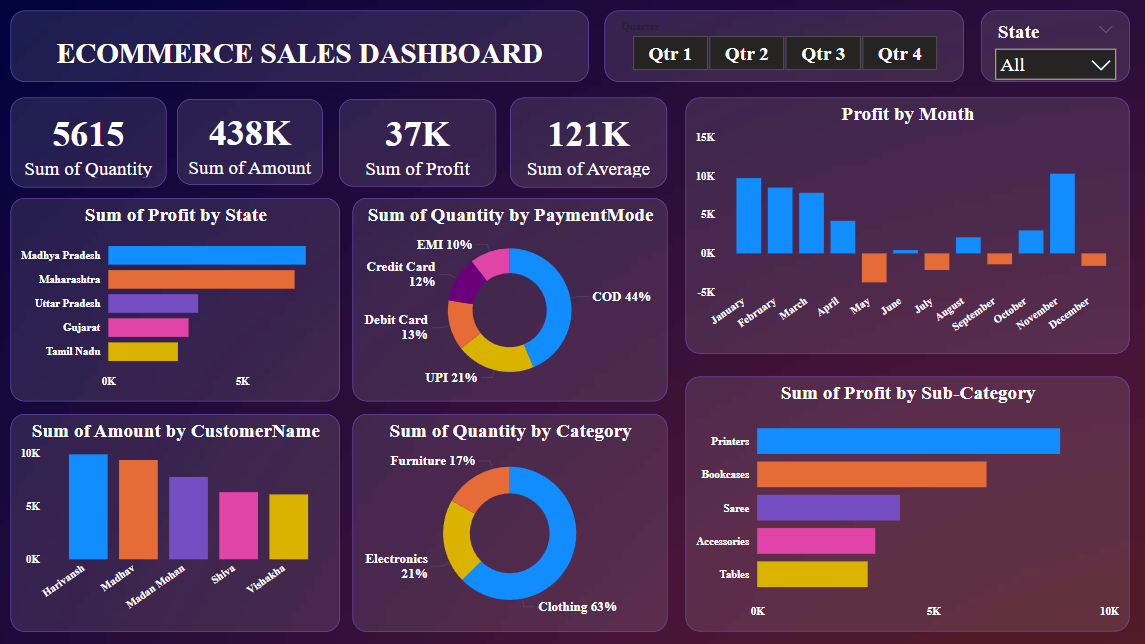

What the dashboard file says about the page in this screenshot:
{"tool":"powerbi","page":{"name":"Page 1","canvas":[1280,720],"ordinal":0},"visuals":[{"type":"textbox","box":[14.3,11.1,642.6,79.5],"z":0},{"type":"columnChart","title":"Profit by Month","fields":{"Category":["Orders.Order Date.Variation.Date Hierarchy.Month"],"Y":["Details.Profit"]},"box":[765.1,108.2,493.1,284.7],"z":1000},{"type":"barChart","fields":{"Category":["Details.Sub-Category"],"Y":["Details.Profit"]},"box":[765.1,418.3,493.1,283.1],"z":2000},{"type":"donutChart","fields":{"Category":["Details.Category"],"Y":["Details.Quantity"]},"box":[394.5,459.7,349.9,241.8],"z":3000},{"type":"donutChart","fields":{"Category":["Details.PaymentMode"],"Y":["Details.Quantity"]},"box":[394.5,219.5,349.9,225.9],"z":4000},{"type":"card","fields":{"Values":["Details.Amount"]},"box":[200.4,109.8,162.2,95.4],"z":5000},{"type":"card","fields":{"Values":["Details.Quantity"]},"box":[14.3,108.2,173.4,100.2],"z":6000},{"type":"card","fields":{"Values":["Details.Profit"]},"box":[380.2,109.8,175,97],"z":7000},{"type":"card","fields":{"Values":["Details.average"]},"box":[569.4,108.2,175,100.2],"z":8000},{"type":"barChart","fields":{"Category":["Orders.State","Details.Sub-Category"],"Y":["Details.Profit"]},"box":[14.3,219.5,365.8,225.9],"z":9000},{"type":"columnChart","fields":{"Category":["Orders.CustomerName"],"Y":["Details.Amount"]},"box":[14.3,459.7,365.8,241.8],"z":10000},{"type":"slicer","fields":{"Values":["Orders.Order Date.Variation.Date Hierarchy.Quarter"]},"box":[674.4,11.1,399.2,79.5],"z":11000},{"type":"slicer","fields":{"Values":["Orders.State"]},"box":[1092.7,11.1,165.4,79.5],"z":12000}]}

Visuals, with their boxes in screenshot pixels (x1, y1, x2, y2), scaled from the page's 1280x720 canvas onto the 1145x644 screenshot:
textbox: bbox=[13, 10, 588, 81]
"Profit by Month" columnChart: bbox=[684, 97, 1125, 351]
barChart - Details.Sub-Category x Details.Profit: bbox=[684, 374, 1125, 627]
donutChart - Details.Category x Details.Quantity: bbox=[353, 411, 666, 627]
donutChart - Details.PaymentMode x Details.Quantity: bbox=[353, 196, 666, 398]
card - Details.Amount: bbox=[179, 98, 324, 184]
card - Details.Quantity: bbox=[13, 97, 168, 186]
card - Details.Profit: bbox=[340, 98, 497, 185]
card - Details.average: bbox=[509, 97, 666, 186]
barChart - Orders.State x Details.Sub-Category: bbox=[13, 196, 340, 398]
columnChart - Orders.CustomerName x Details.Amount: bbox=[13, 411, 340, 627]
slicer - Orders.Order Date.Variation.Date Hierarchy.Quarter: bbox=[603, 10, 960, 81]
slicer - Orders.State: bbox=[977, 10, 1125, 81]
